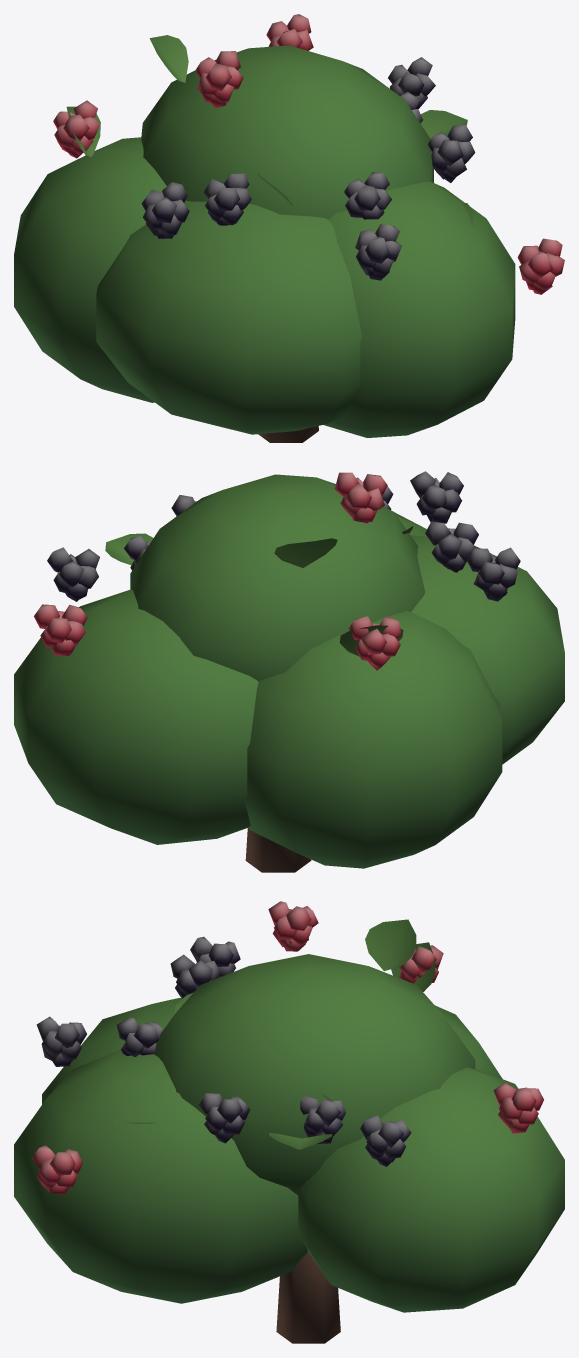
Rendered from ing_blackberry.glb.
The picture shows the model from 3 angles, top to bottom: view 1: azimuth 30°, elevation 25°; view 2: azimuth 150°, elevation 25°; view 3: azimuth 270°, elevation 25°; orthographic projection.
Visible parts, largest first — view 1: ing_blackberry; view 2: ing_blackberry; view 3: ing_blackberry.
Part boxes in pixels (x1,y1,x2,y2): ing_blackberry: [14, 14, 564, 442]; ing_blackberry: [14, 471, 564, 872]; ing_blackberry: [14, 901, 564, 1343].
Size of what is drawn, in the model's own units: 0.5731 by 0.5334 by 0.6774.
